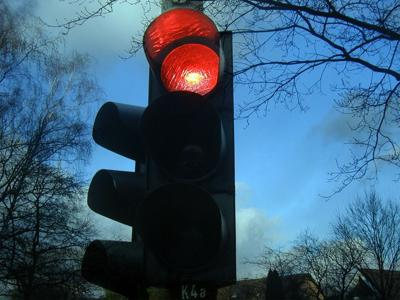trafficlight_red: (143, 6, 229, 283)
